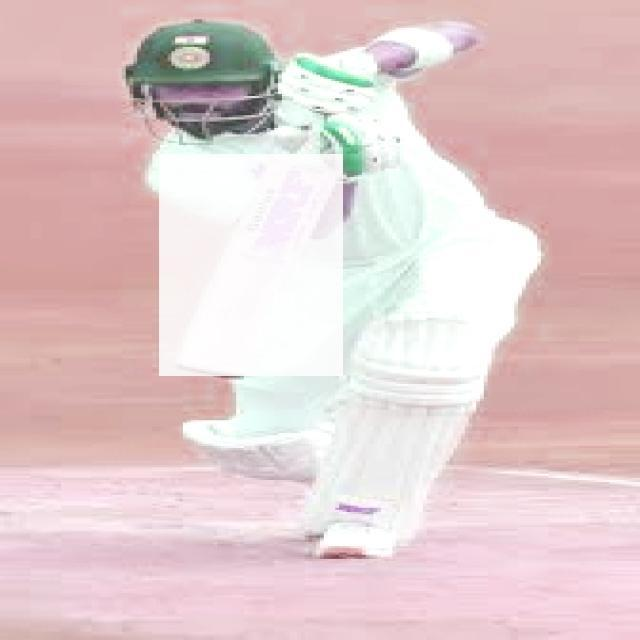bat: (160, 151, 341, 379)
toe: (177, 358, 245, 378)
